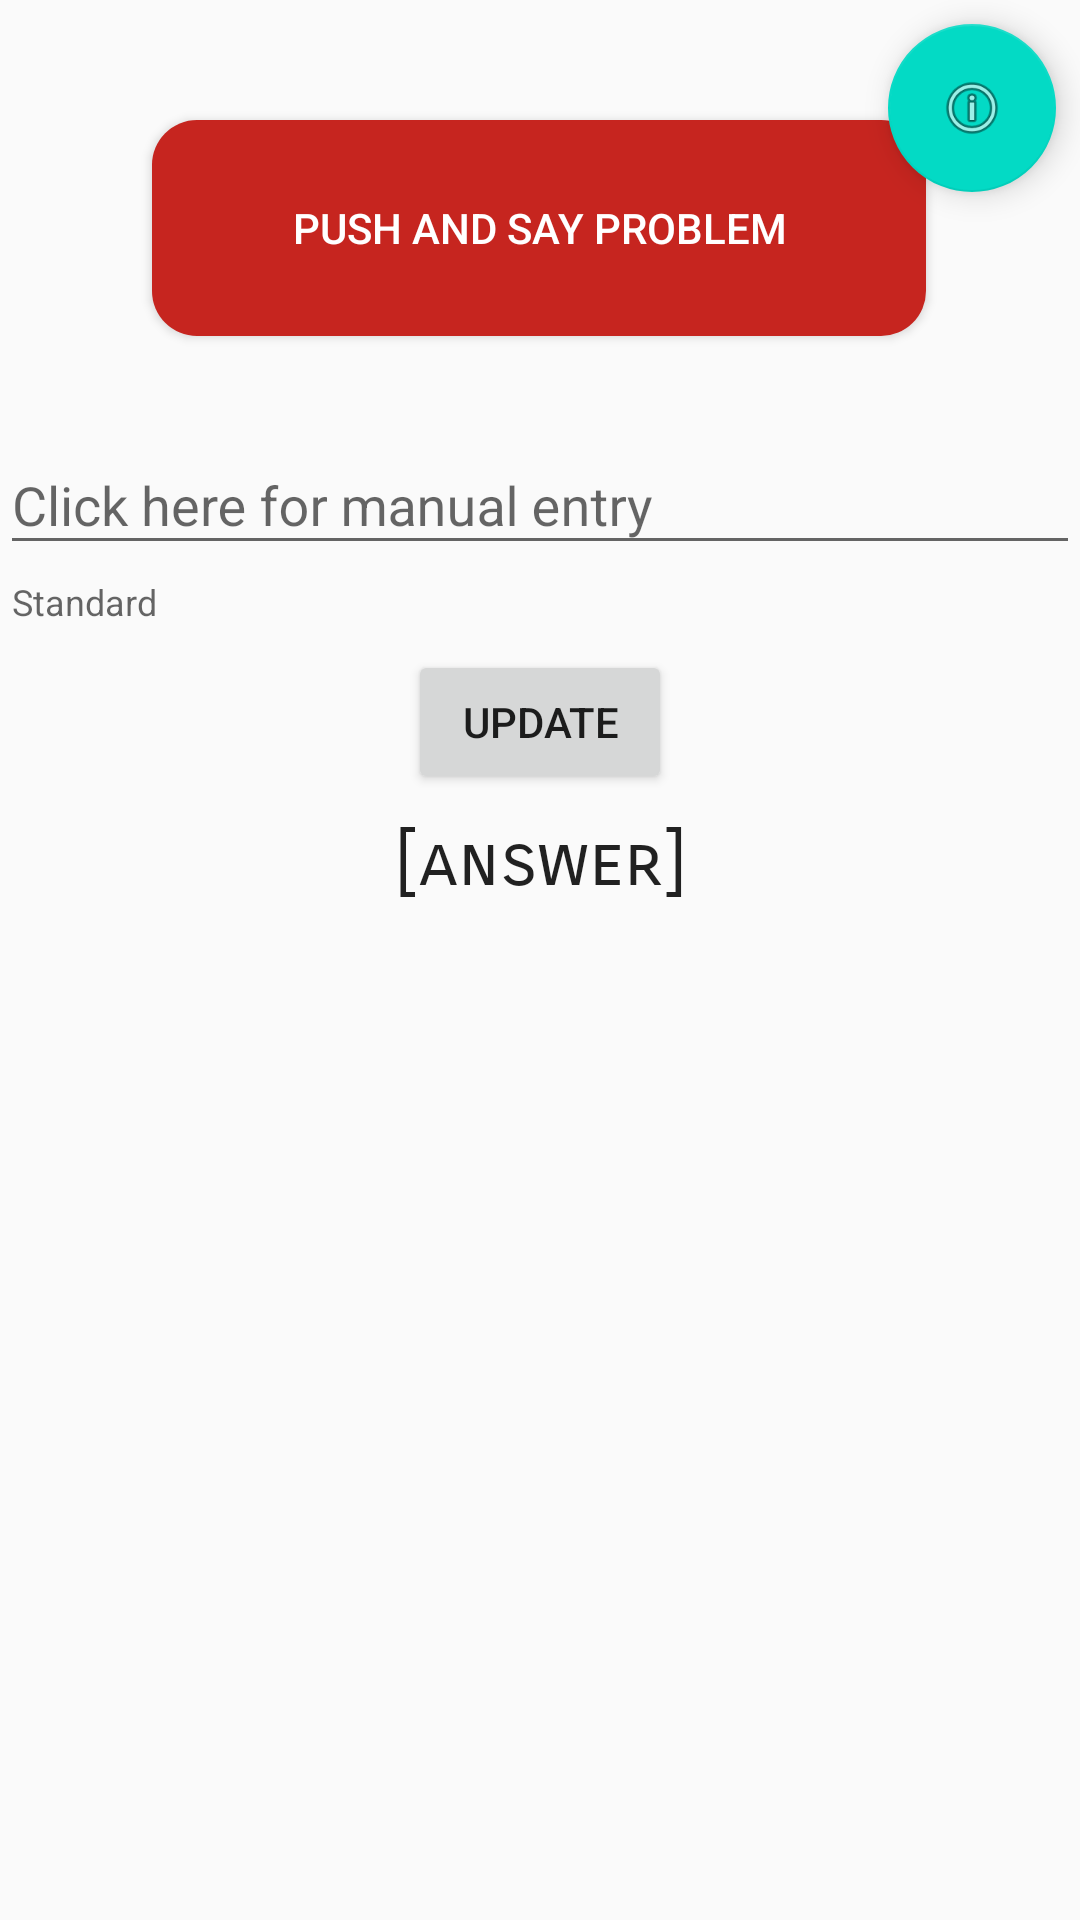

Locate icon controls on the screen. Image size 1080w x 1920h, boxes as bbox=(x1, y1, x2, y2).
info details: bbox=(888, 24, 1056, 192)
